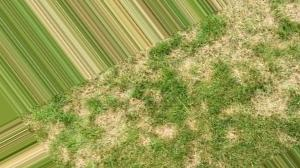patch: (211, 42, 254, 69), (226, 8, 273, 29), (99, 109, 125, 135), (255, 96, 284, 116), (75, 145, 99, 165), (182, 60, 205, 80), (151, 124, 181, 136), (225, 103, 244, 117), (50, 124, 65, 138), (286, 4, 295, 21), (80, 102, 90, 117)
